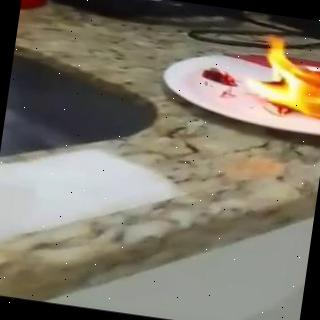fire: (236, 30, 320, 125)
